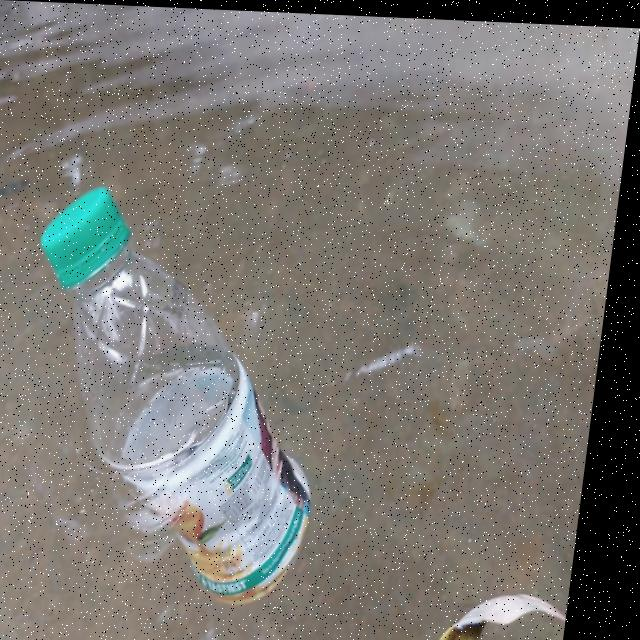waterbottle: (0, 164, 382, 587)
